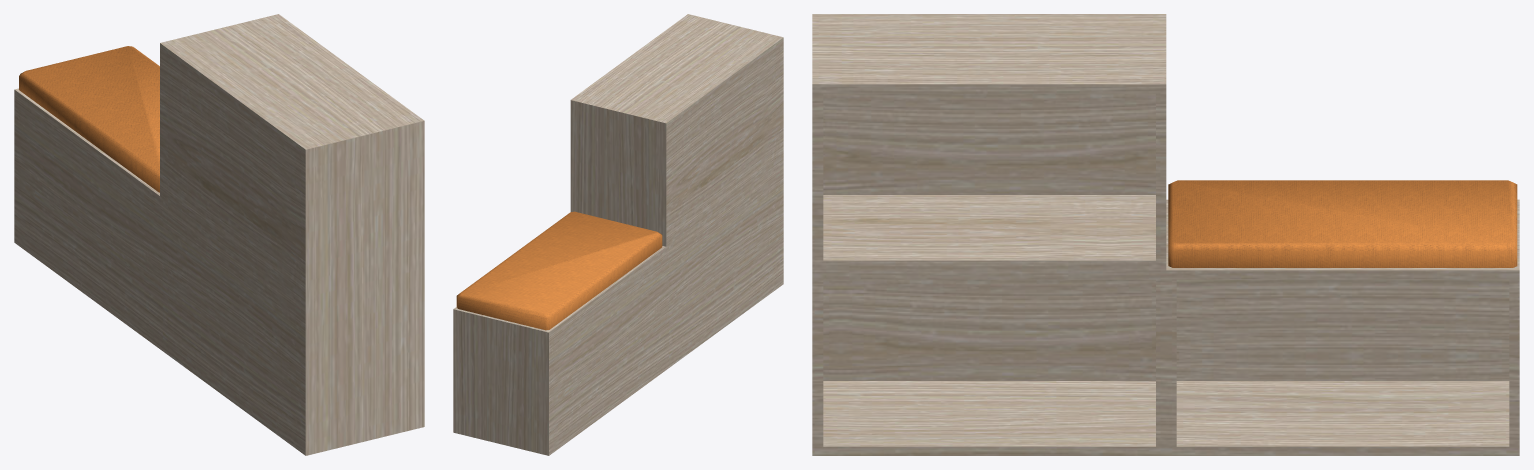
File: DeskCase_05.FBX
3 renders of one model, left to right at view 1: azimuth 30°, elevation 25°; view 2: azimuth 150°, elevation 25°; view 3: azimuth 270°, elevation 25°, orthographic. The views are drawn at different scales.
Parts seen in each view (by area): view 1: DeskCase_05; view 2: DeskCase_05; view 3: DeskCase_05.
Part boxes in pixels (x1,y1,x2,y2): DeskCase_05: (14,14,424,455); DeskCase_05: (453,14,783,455); DeskCase_05: (812,14,1519,455).
Size of the model in its own units: 0.6634 by 1.63 by 2.82.
